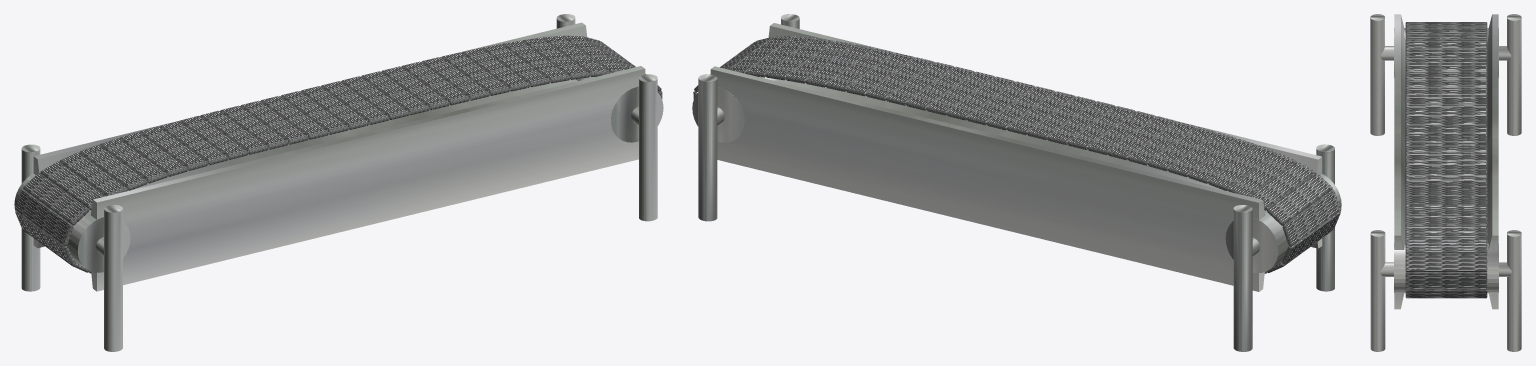
File: ConveyorsBelt.fbx
The picture shows the model from 3 angles, left to right: view 1: azimuth 30°, elevation 25°; view 2: azimuth 150°, elevation 25°; view 3: azimuth 270°, elevation 25°; orthographic projection. The views are drawn at different scales.
Visible parts, largest first — view 1: PenahanConveyor, BeltConveyor, KakiRodaKananConveyor.004, KakiRodaKananConveyor.003, RodaKiriConveyor, KakiRodaKananConveyor.002, RodaKananConveyor; view 2: PenahanConveyor, BeltConveyor, KakiRodaKananConveyor.001, KakiRodaKananConveyor.002, RodaKiriConveyor, KakiRodaKananConveyor.003, RodaKananConveyor; view 3: BeltConveyor, PenahanConveyor, KakiRodaKananConveyor.004, KakiRodaKananConveyor.002, KakiRodaKananConveyor.003, KakiRodaKananConveyor.001, RodaKananConveyor, KakiRodaKiriConveyor, KakiRodaKananConveyor, RodaKiriConveyor.
Part boxes in pixels (x1,y1,x2,y2): PenahanConveyor: (33,22,645,291); BeltConveyor: (15,35,662,273); KakiRodaKananConveyor.004: (639,74,657,221); KakiRodaKananConveyor.003: (104,205,122,351); RodaKiriConveyor: (14,173,130,272); KakiRodaKananConveyor.002: (21,144,40,291); RodaKananConveyor: (576,76,663,142); PenahanConveyor: (710,23,1322,291); BeltConveyor: (693,36,1340,273); KakiRodaKananConveyor.001: (698,74,717,221); KakiRodaKananConveyor.002: (1233,205,1252,351); RodaKiriConveyor: (1225,174,1341,273); KakiRodaKananConveyor.003: (1316,144,1334,291); RodaKananConveyor: (692,76,779,142); BeltConveyor: (1405,22,1487,298); PenahanConveyor: (1394,14,1498,309); KakiRodaKananConveyor.004: (1370,230,1385,351); KakiRodaKananConveyor.002: (1507,14,1521,135); KakiRodaKananConveyor.003: (1370,14,1384,135); KakiRodaKananConveyor.001: (1507,230,1521,351); RodaKananConveyor: (1394,243,1498,293); KakiRodaKiriConveyor: (1380,262,1511,276); KakiRodaKananConveyor: (1380,46,1511,60); RodaKiriConveyor: (1394,28,1498,77).
Size of the model in its own units: 453 by 107 by 120.
Materials: 10 (10 with a texture image).
